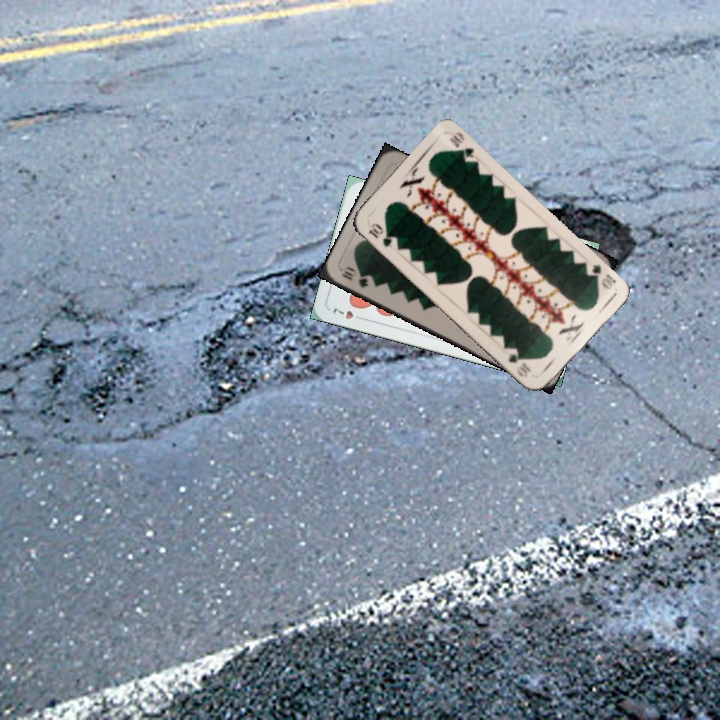G10: (581, 260, 619, 292), (364, 219, 396, 250), (337, 264, 371, 290)
H7: (329, 304, 367, 323)
